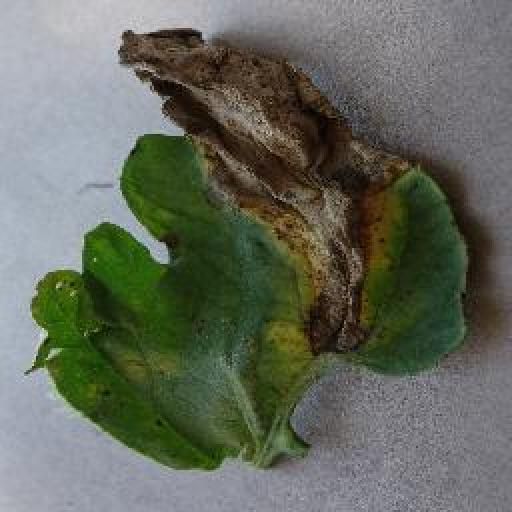Early Blight: (30, 27, 469, 472)
